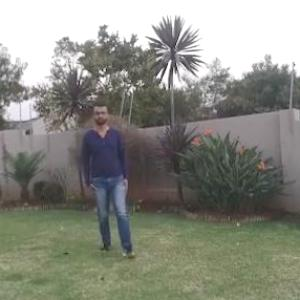follow: (88, 106, 129, 243)
